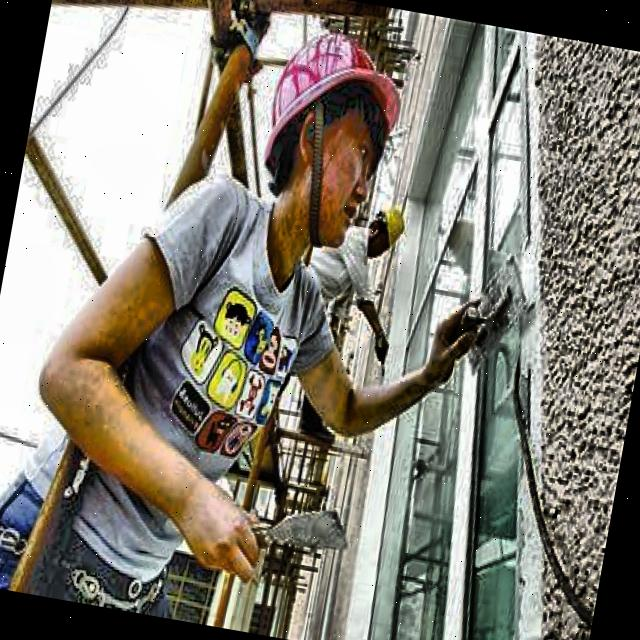helmet: (240, 9, 428, 275)
